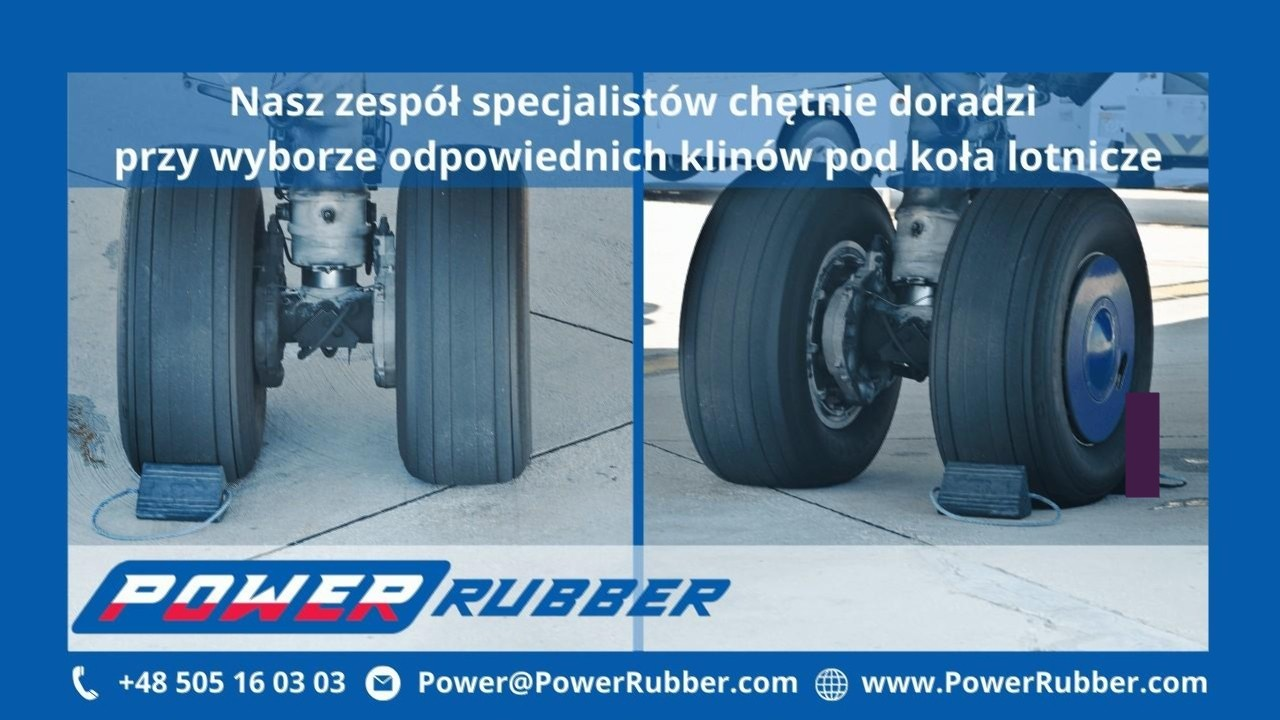chock: (132, 457, 232, 528), (935, 458, 1034, 522), (1111, 444, 1162, 497)
wheel: (928, 181, 1153, 507), (677, 174, 900, 488), (113, 144, 267, 484), (391, 147, 533, 485), (773, 108, 865, 177)
